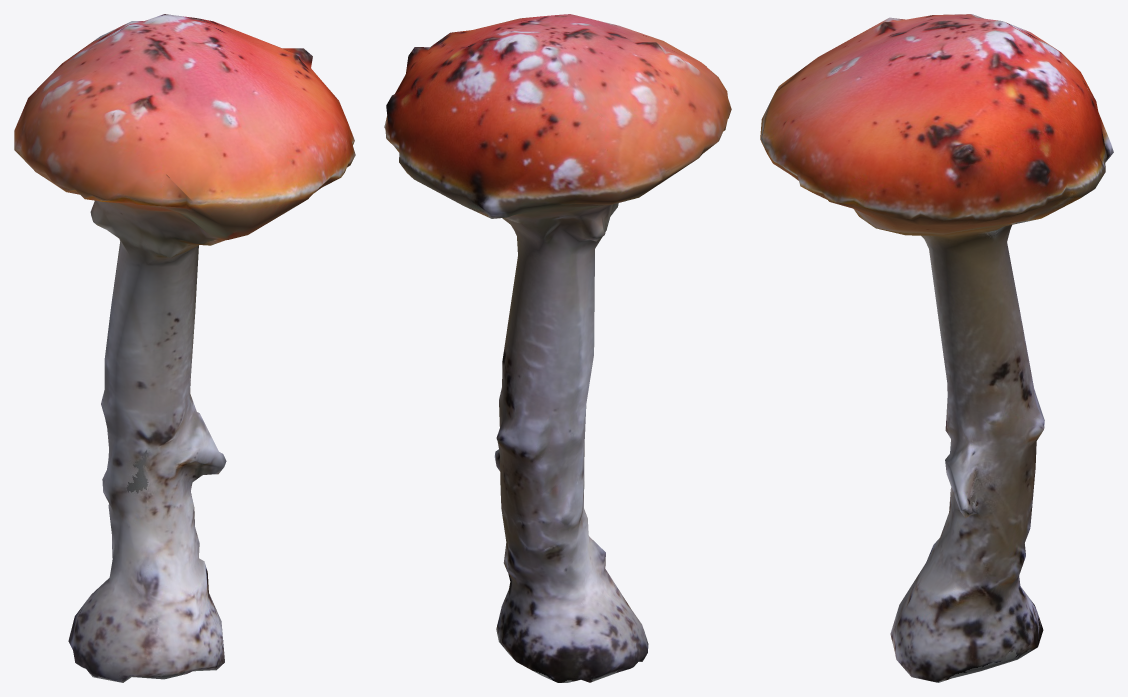
The model's file is amanite-cesar.glb.
The picture shows the model from 3 angles, left to right: view 1: azimuth 30°, elevation 25°; view 2: azimuth 150°, elevation 25°; view 3: azimuth 270°, elevation 25°; orthographic projection. The views are drawn at different scales.
Parts seen in each view (by area): view 1: mushroom_04; view 2: mushroom_04; view 3: mushroom_04.
Part boxes in pixels (bbox=[...]): mushroom_04: bbox=[14, 14, 355, 682]; mushroom_04: bbox=[384, 14, 731, 682]; mushroom_04: bbox=[760, 14, 1113, 682].
Size of the model in its own units: 2.5 by 5.05 by 2.53.
Materials: 1 (1 with a texture image).
